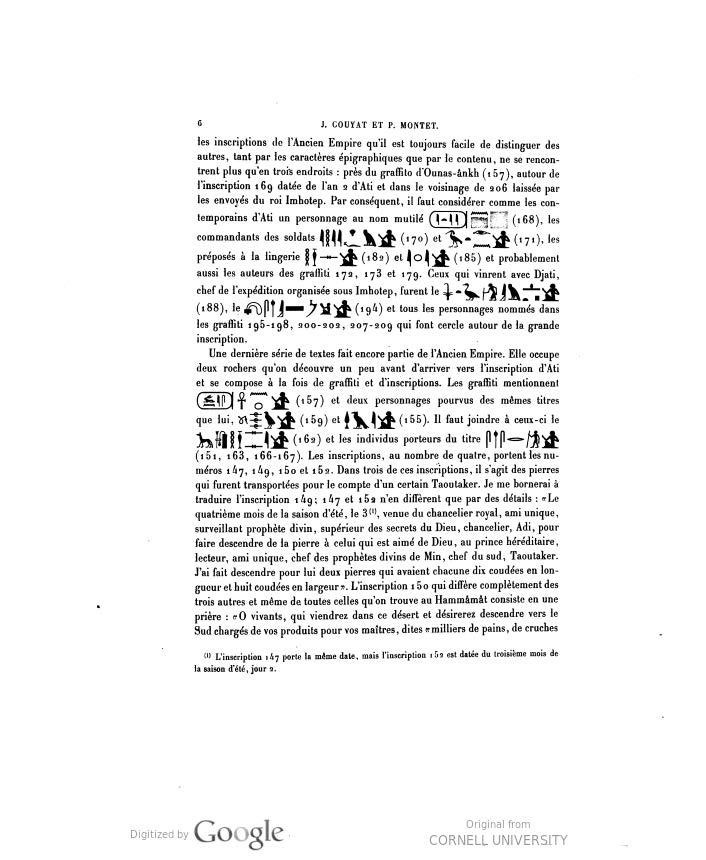circle: (194, 384, 239, 414), (428, 208, 469, 233)
